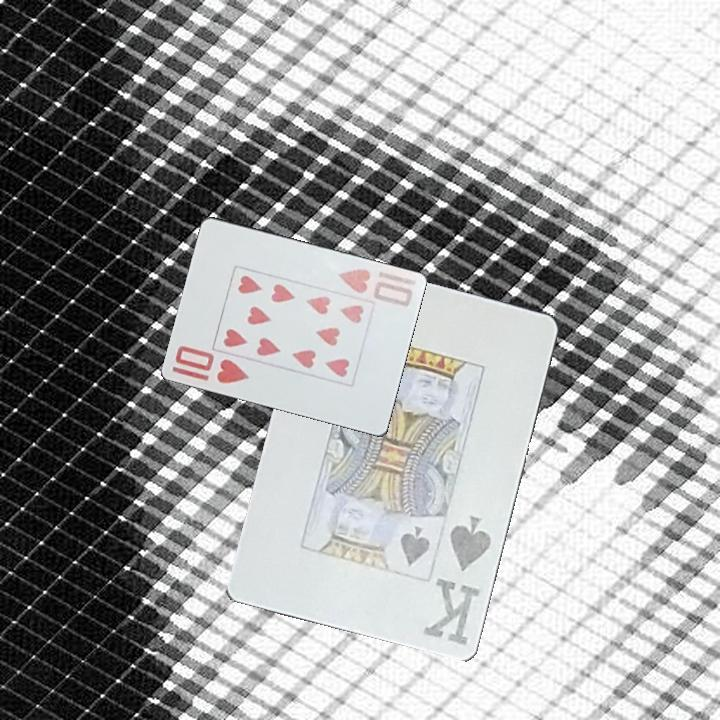Ks: (419, 512, 494, 648)
Th: (333, 265, 418, 310), (171, 342, 252, 387)
